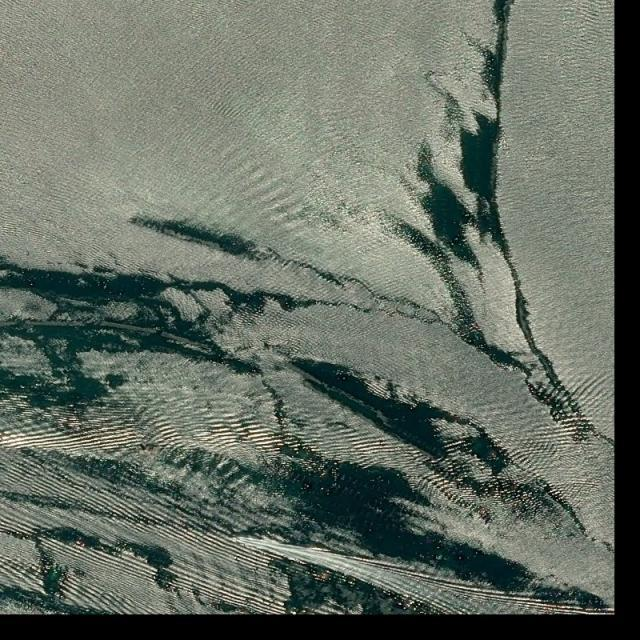ship: (230, 537, 242, 541)
